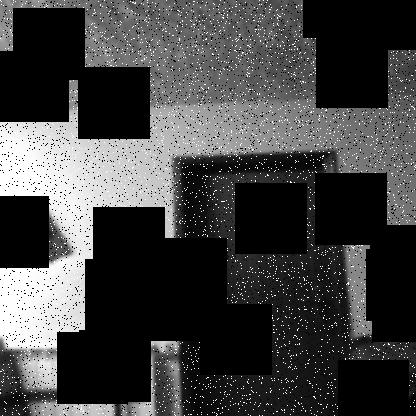Porte: (170, 148, 357, 415)
